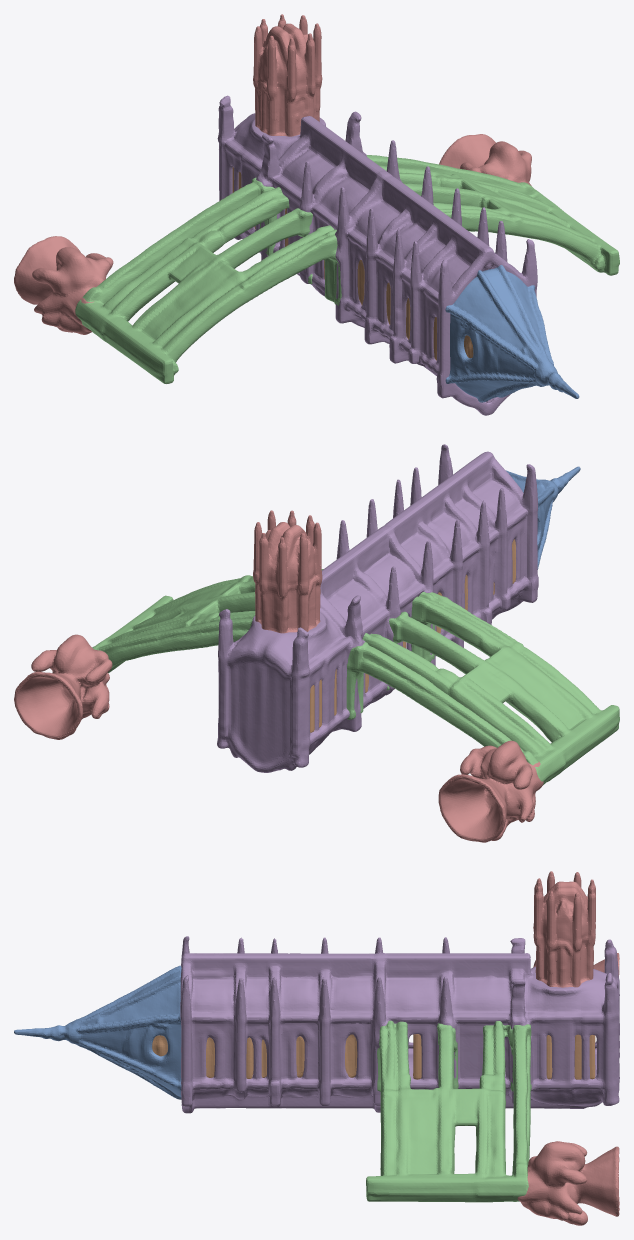
The model's file is gothic_rocket_ship_2.glb.
3 views of the same model, one above another, from view 1: azimuth 30°, elevation 25°; view 2: azimuth 150°, elevation 25°; view 3: azimuth 270°, elevation 25° (orthographic). The views are drawn at different scales.
Visible parts, largest first — view 1: Iron_Hull, Flying_Buttress_Wings, Stone_Gargoyle_Thrusters, Spire_Nose_Cone, Stained_Glass_Portholes; view 2: Iron_Hull, Flying_Buttress_Wings, Stone_Gargoyle_Thrusters, Spire_Nose_Cone, Stained_Glass_Portholes; view 3: Iron_Hull, Flying_Buttress_Wings, Stone_Gargoyle_Thrusters, Spire_Nose_Cone, Stained_Glass_Portholes.
Boxes of the visible parts, bbox=[...] form: Iron_Hull: bbox=[217, 95, 537, 415]; Flying_Buttress_Wings: bbox=[75, 155, 619, 383]; Stone_Gargoyle_Thrusters: bbox=[14, 14, 531, 334]; Spire_Nose_Cone: bbox=[445, 265, 579, 402]; Stained_Glass_Portholes: bbox=[232, 167, 473, 360]; Iron_Hull: bbox=[217, 444, 538, 772]; Flying_Buttress_Wings: bbox=[92, 569, 619, 785]; Stone_Gargoyle_Thrusters: bbox=[14, 510, 543, 842]; Spire_Nose_Cone: bbox=[506, 466, 580, 569]; Stained_Glass_Portholes: bbox=[310, 539, 515, 732]; Iron_Hull: bbox=[180, 936, 619, 1113]; Flying_Buttress_Wings: bbox=[366, 1020, 531, 1202]; Stone_Gargoyle_Thrusters: bbox=[517, 871, 619, 1225]; Spire_Nose_Cone: bbox=[14, 965, 181, 1099]; Stained_Glass_Portholes: bbox=[152, 1034, 595, 1079].
Bounding box in the file's own units: 1.7 × 0.8567 × 1.91.
